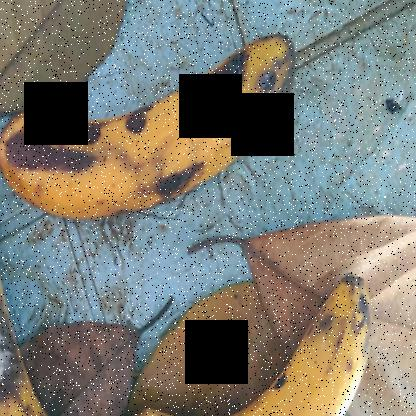overripe: (0, 14, 311, 225), (117, 273, 383, 415)
